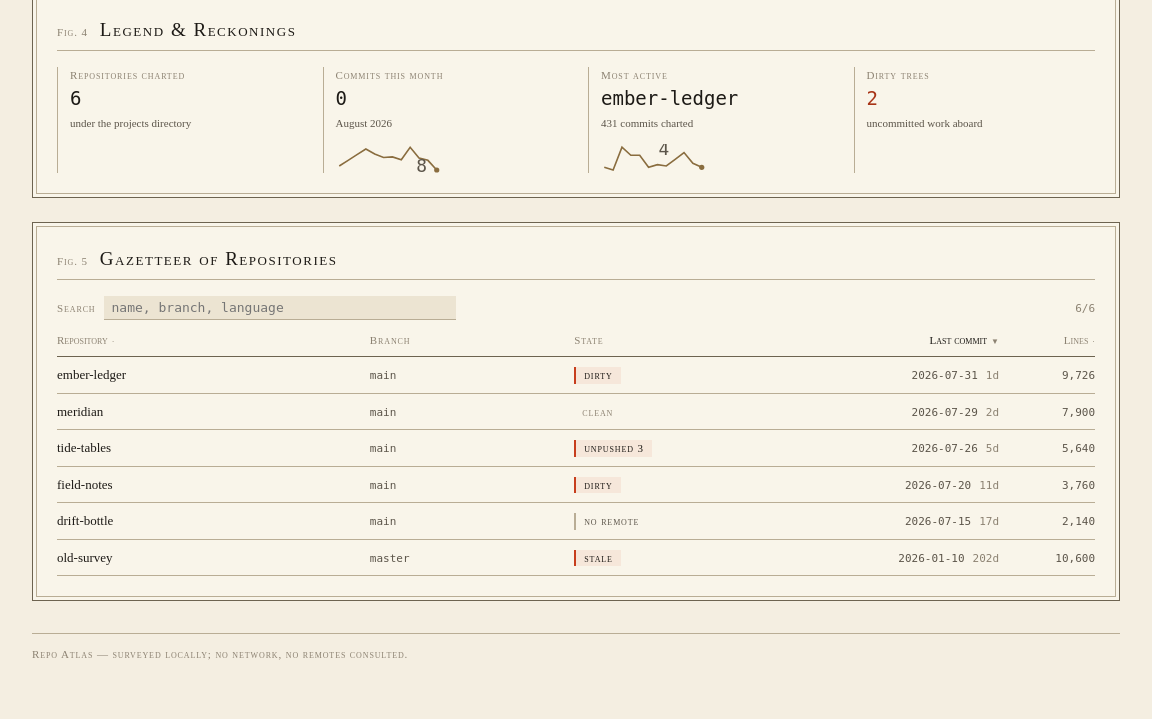
Scenario: Fig. 5 — gazetteer › drills down when a row is clicked
(page scrolled)
Expected: the text "Gazetteer of Repositories" is shown, [100, 247, 337, 271]
Click the row with class "gazetteer__row" that starts with "meridian" at (576, 412), box [57, 394, 1095, 430]
(page scrolled)
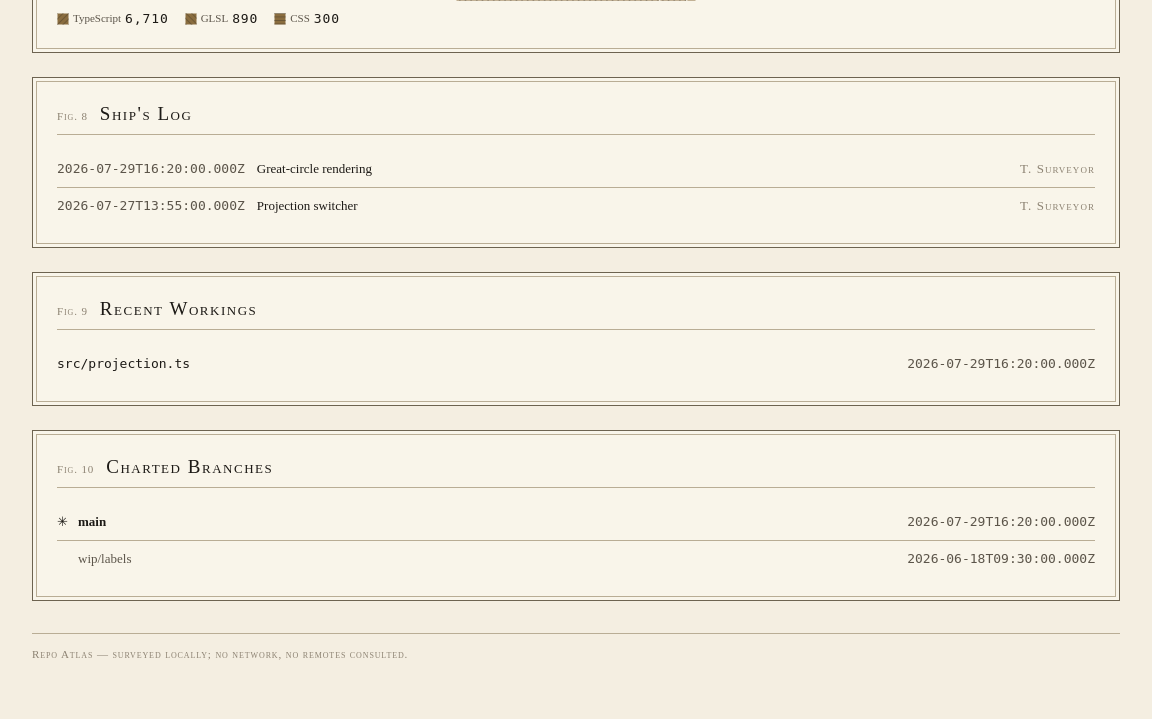
Now the text "Charted Branches" is shown, box [106, 455, 273, 479]
